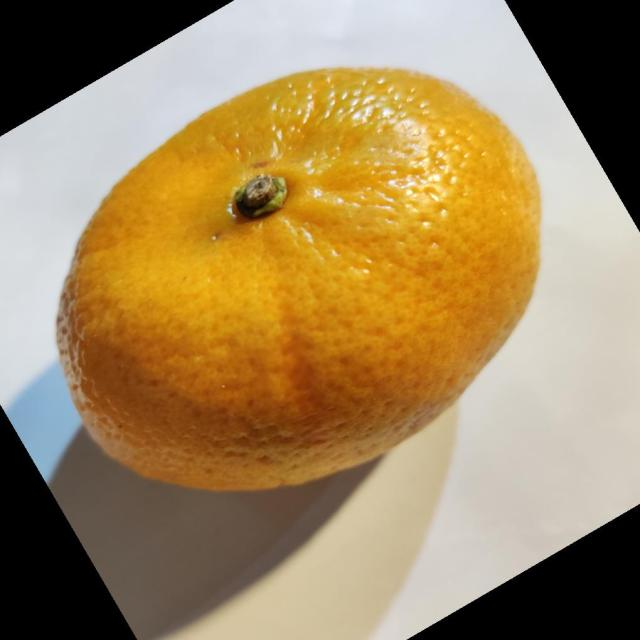fresh orange: (54, 64, 542, 493)
